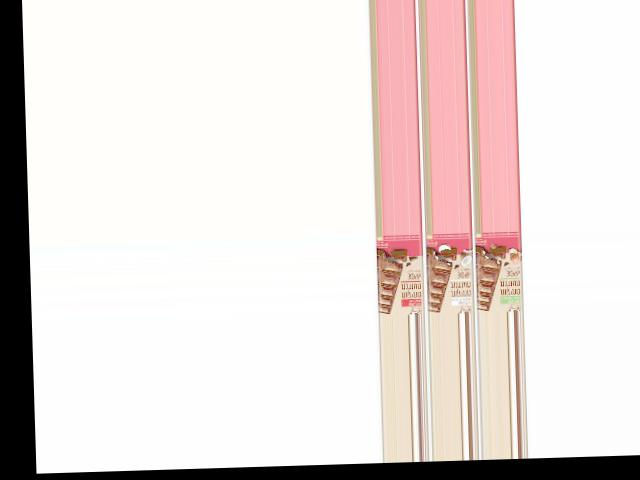chocolate: (475, 230, 525, 311)
